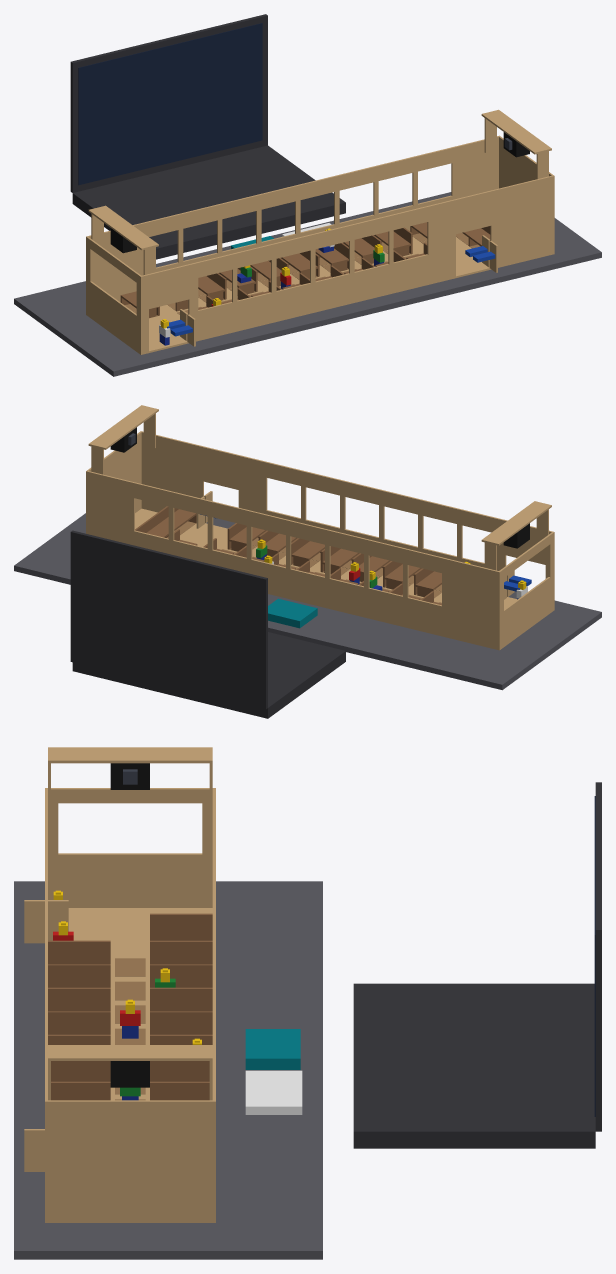
The model's file is maqueta_3d.obj.
3 views of the same model, one above another, from view 1: azimuth 30°, elevation 25°; view 2: azimuth 150°, elevation 25°; view 3: azimuth 270°, elevation 25° (orthographic). The views are drawn at different scales.
Parts seen in each view (by area): view 1: LATERAL_DERECHO_(puertas), PANTALLA, PORTATIL, TABLERO_BASE, LATERAL_IZQUIERDO, FRENTE, PISO, TRASERA, PISO_GRABADO, ARCO_CAMARA_TRASERA, ARCO_CAMARA_DELANTERA, SEPARADORES_ARCO_TRASERA (+6 smaller); view 2: PORTATIL, LATERAL_IZQUIERDO, TABLERO_BASE, LATERAL_DERECHO_(puertas), FRENTE, PISO, TRASERA, ARCO_CAMARA_TRASERA, ARCO_CAMARA_DELANTERA, ARDUINO_UNO, ASIENTO_11_banca, PISO_GRABADO (+8 smaller); view 3: TABLERO_BASE, PORTATIL, TRASERA, FRENTE, PISO, ARCO_CAMARA_DELANTERA, ARCO_CAMARA_TRASERA, PROTOBOARD, ARDUINO_UNO, PISO_GRABADO, ASIENTO_01L, LATERAL_IZQUIERDO (+18 smaller).
Part boxes in pixels (x1=…): LATERAL_DERECHO_(puertas): x1=140, y1=175, x2=554, y2=354; PANTALLA: x1=78, y1=23, x2=262, y2=185; PORTATIL: x1=70, y1=14, x2=345, y2=259; TABLERO_BASE: x1=14, y1=192, x2=601, y2=376; LATERAL_IZQUIERDO: x1=86, y1=135, x2=499, y2=315; FRENTE: x1=87, y1=237, x2=141, y2=353; PISO: x1=134, y1=237, x2=488, y2=350; TRASERA: x1=499, y1=136, x2=553, y2=188; PISO_GRABADO: x1=125, y1=233, x2=480, y2=318; ARCO_CAMARA_TRASERA: x1=481, y1=109, x2=551, y2=154; ARCO_CAMARA_DELANTERA: x1=88, y1=205, x2=158, y2=250; SEPARADORES_ARCO_TRASERA: x1=484, y1=118, x2=548, y2=179; PORTATIL: x1=70, y1=530, x2=345, y2=718; LATERAL_IZQUIERDO: x1=86, y1=470, x2=500, y2=650; TABLERO_BASE: x1=14, y1=513, x2=601, y2=690; LATERAL_DERECHO_(puertas): x1=140, y1=431, x2=554, y2=610; FRENTE: x1=499, y1=532, x2=553, y2=649; PISO: x1=135, y1=508, x2=516, y2=608; TRASERA: x1=87, y1=432, x2=141, y2=512; ARCO_CAMARA_TRASERA: x1=88, y1=405, x2=158, y2=449; ARCO_CAMARA_DELANTERA: x1=481, y1=501, x2=551, y2=545; ARDUINO_UNO: x1=268, y1=598, x2=317, y2=628; ASIENTO_11_banca: x1=135, y1=506, x2=196, y2=537; PISO_GRABADO: x1=174, y1=521, x2=441, y2=603; TABLERO_BASE: x1=14, y1=881, x2=322, y2=1259; PORTATIL: x1=353, y1=782, x2=601, y2=1148; TRASERA: x1=48, y1=1100, x2=212, y2=1222; FRENTE: x1=48, y1=788, x2=212, y2=907; PISO: x1=68, y1=908, x2=212, y2=1100; ARCO_CAMARA_DELANTERA: x1=48, y1=747, x2=212, y2=763; ARCO_CAMARA_TRASERA: x1=48, y1=1045, x2=212, y2=1060; PROTOBOARD: x1=245, y1=1070, x2=302, y2=1114; ARDUINO_UNO: x1=245, y1=1029, x2=300, y2=1069; PISO_GRABADO: x1=115, y1=958, x2=145, y2=1100; ASIENTO_01L: x1=150, y1=913, x2=212, y2=940; LATERAL_IZQUIERDO: x1=212, y1=788, x2=215, y2=1222.
Size of the model in its own units: 850 by 234 by 571.
